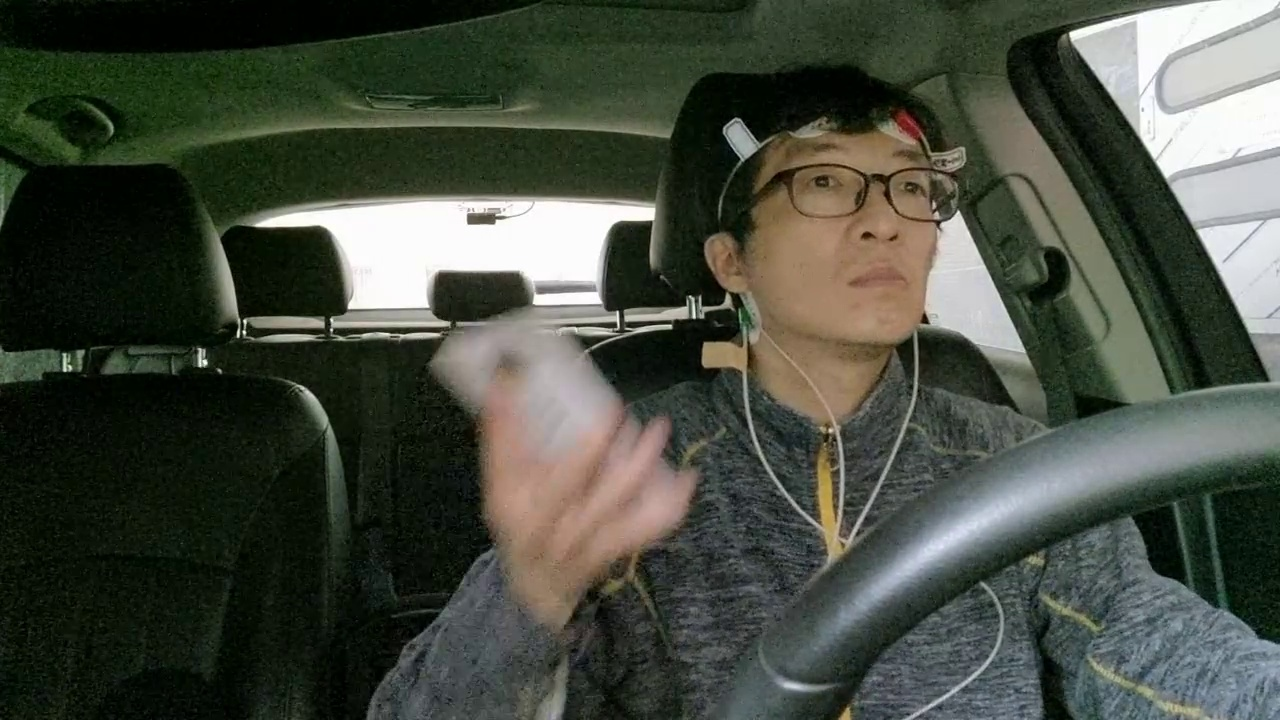phone: (386, 282, 691, 519)
